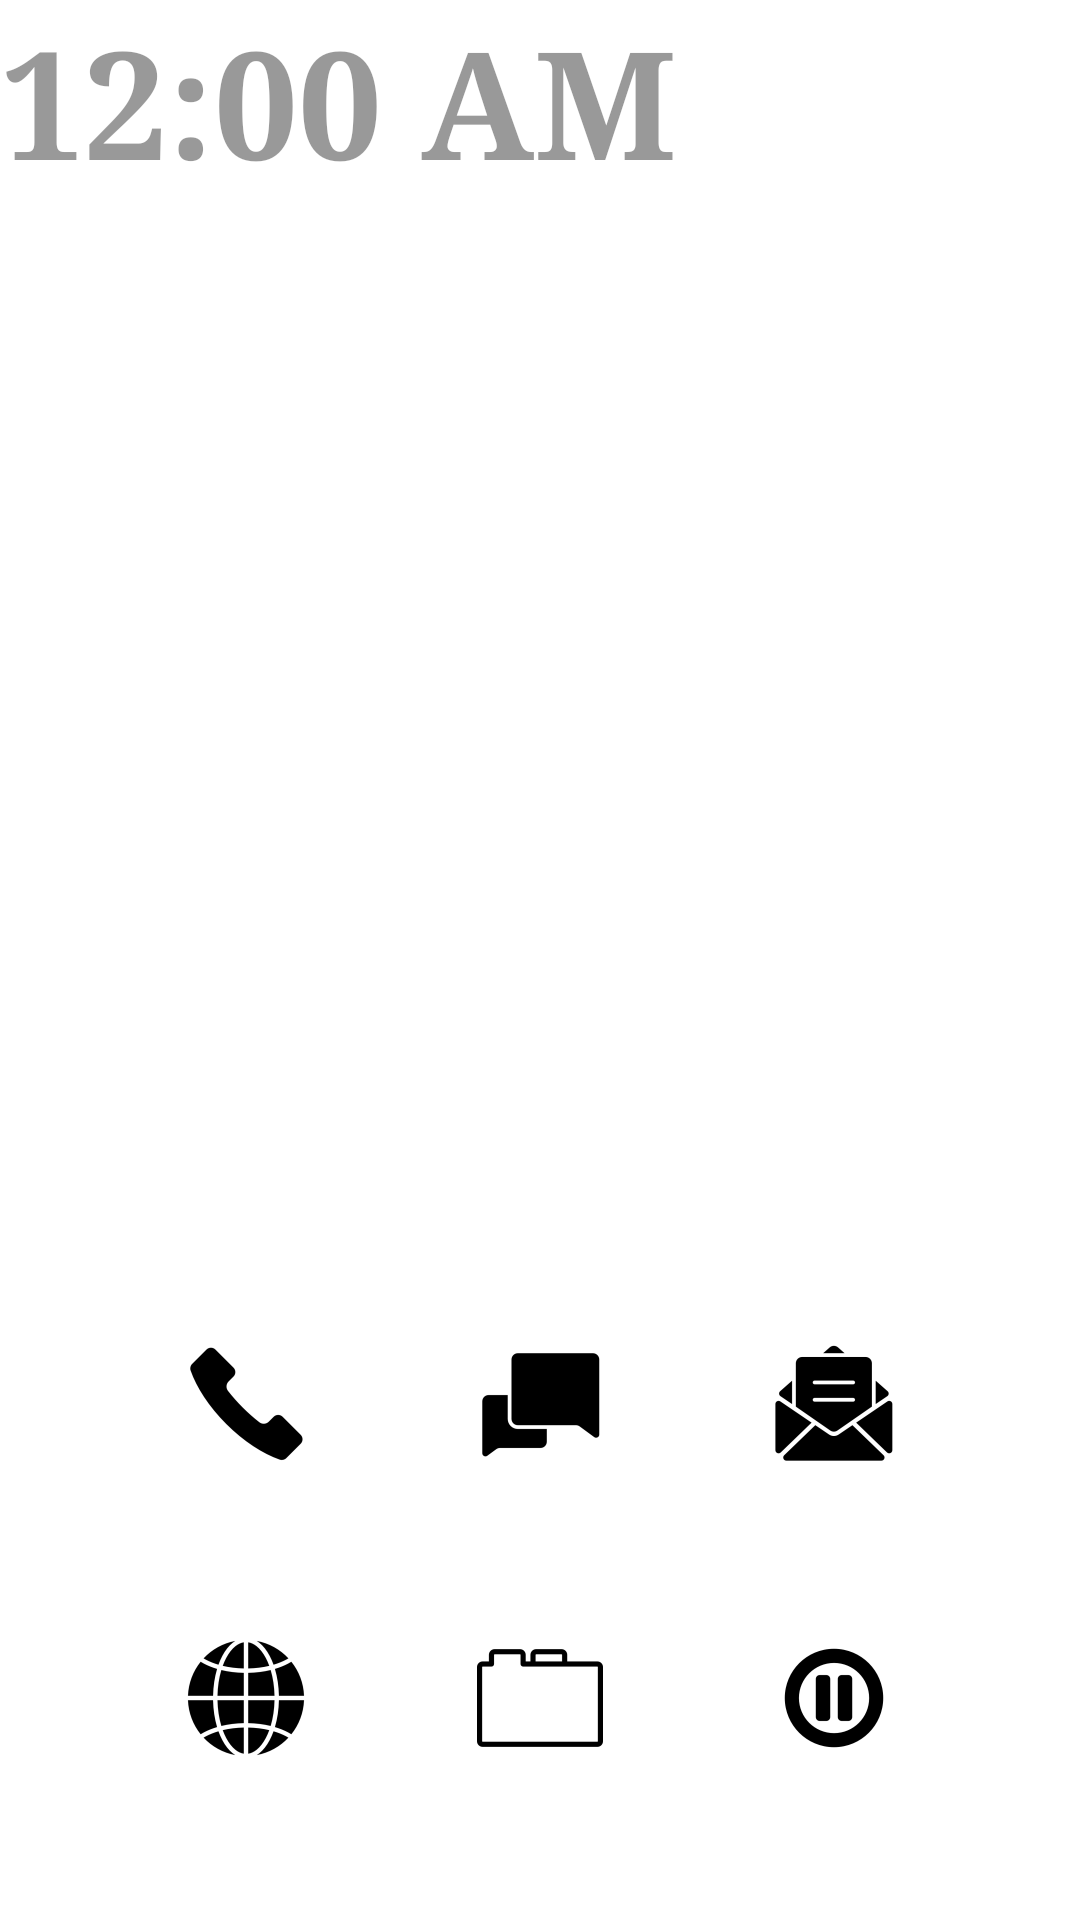

Icons on this 1080w x 1920h Android screen, each with the point to tap as (x,y):
browser: (246,1698)
dialler: (246,1403)
files: (540,1698)
mail: (834,1403)
message: (541,1405)
